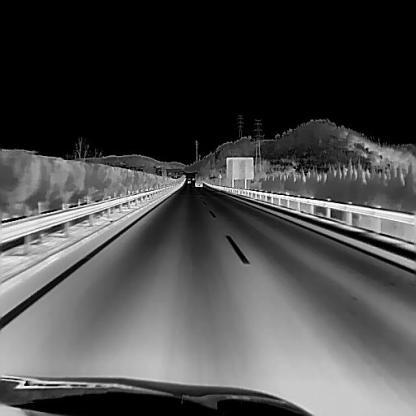car: (194, 172, 202, 186)
